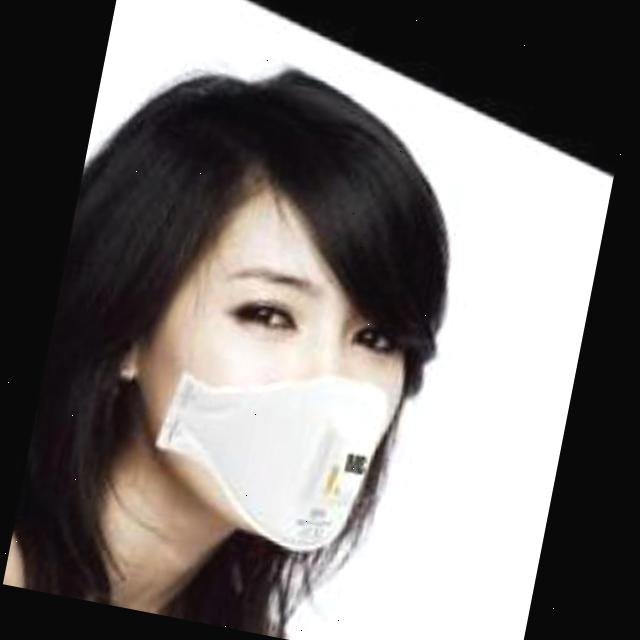suspicion: (52, 94, 484, 620)
